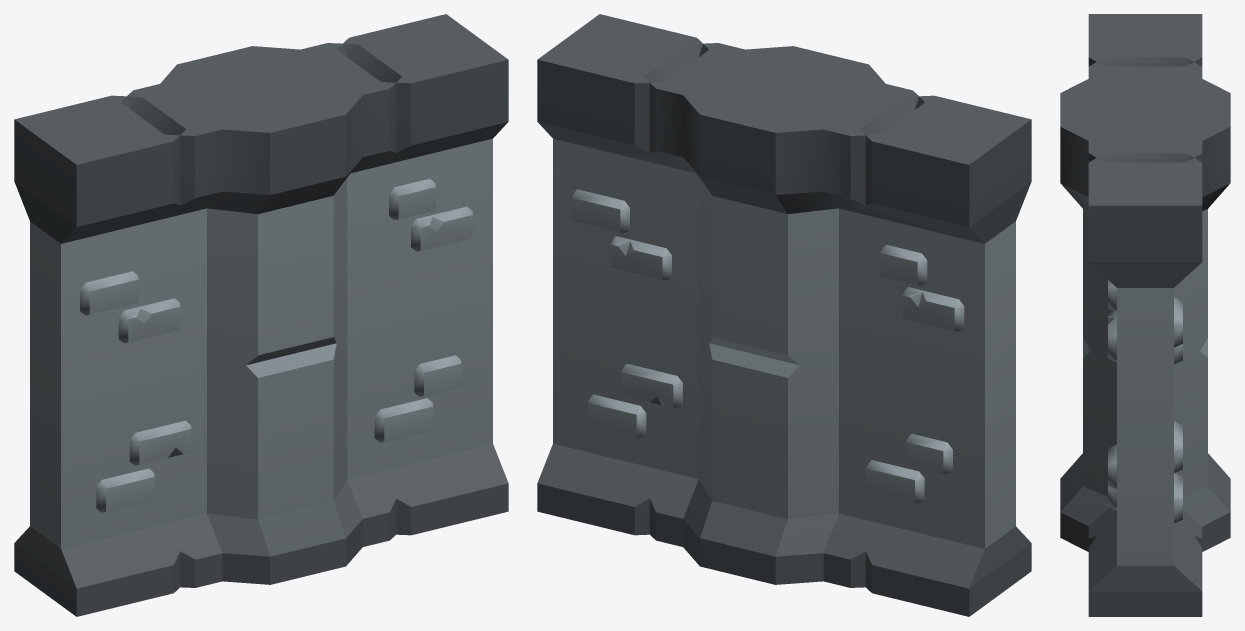
Rendered from dungeon-wall-pillar.glb.
3 views of the same model, side by side, from view 1: azimuth 30°, elevation 25°; view 2: azimuth 150°, elevation 25°; view 3: azimuth 270°, elevation 25° (orthographic). The views are drawn at different scales.
Visible parts, largest first — view 1: dungeon-wall-pillar; view 2: dungeon-wall-pillar; view 3: dungeon-wall-pillar.
Boxes of the visible parts, left/top/right/bottom form: dungeon-wall-pillar: left=14, top=14, right=508, bottom=616; dungeon-wall-pillar: left=537, top=14, right=1031, bottom=616; dungeon-wall-pillar: left=1060, top=14, right=1230, bottom=616.
Size of the model in its own units: 3 by 3 by 1.13.
1 material, 1 textured.
